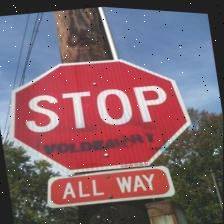Stop: (0, 41, 198, 187)
